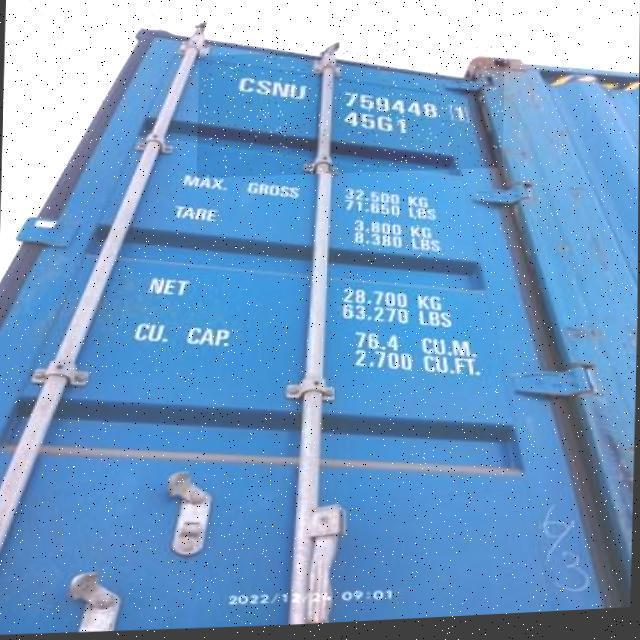container_number_h: (197, 45, 508, 185)
